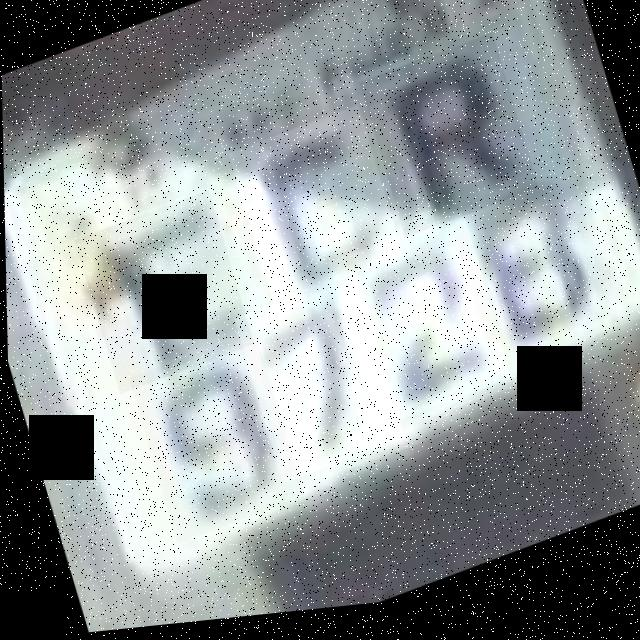2: (326, 218, 510, 439)
7: (232, 276, 403, 493)
8: (442, 157, 611, 373)
9: (126, 332, 302, 550)
C: (227, 108, 402, 312)
P: (72, 190, 254, 399)
R: (358, 39, 539, 248)
